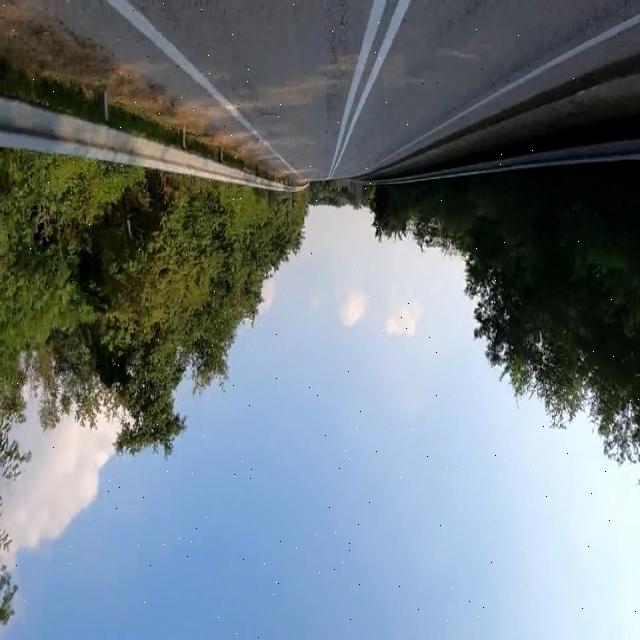lane: (333, 1, 411, 172)
road: (35, 2, 640, 179)
